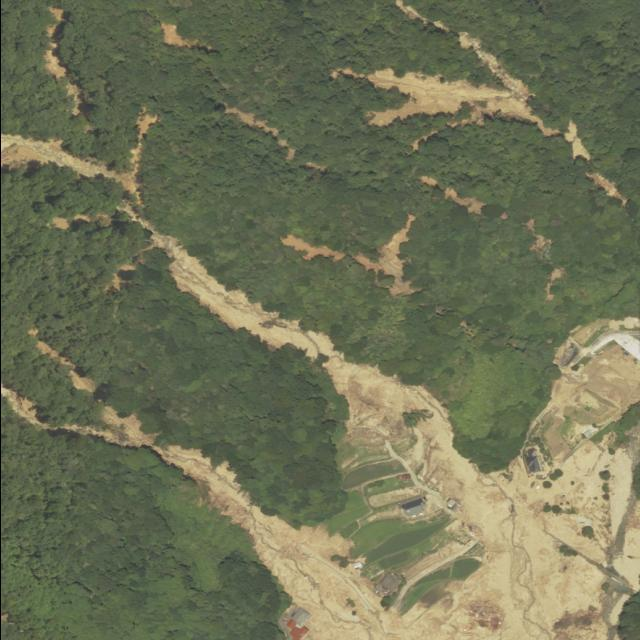landslide: (1, 201, 639, 640), (331, 49, 590, 159), (0, 134, 136, 193), (350, 214, 420, 296), (280, 235, 344, 261), (225, 107, 277, 136)
